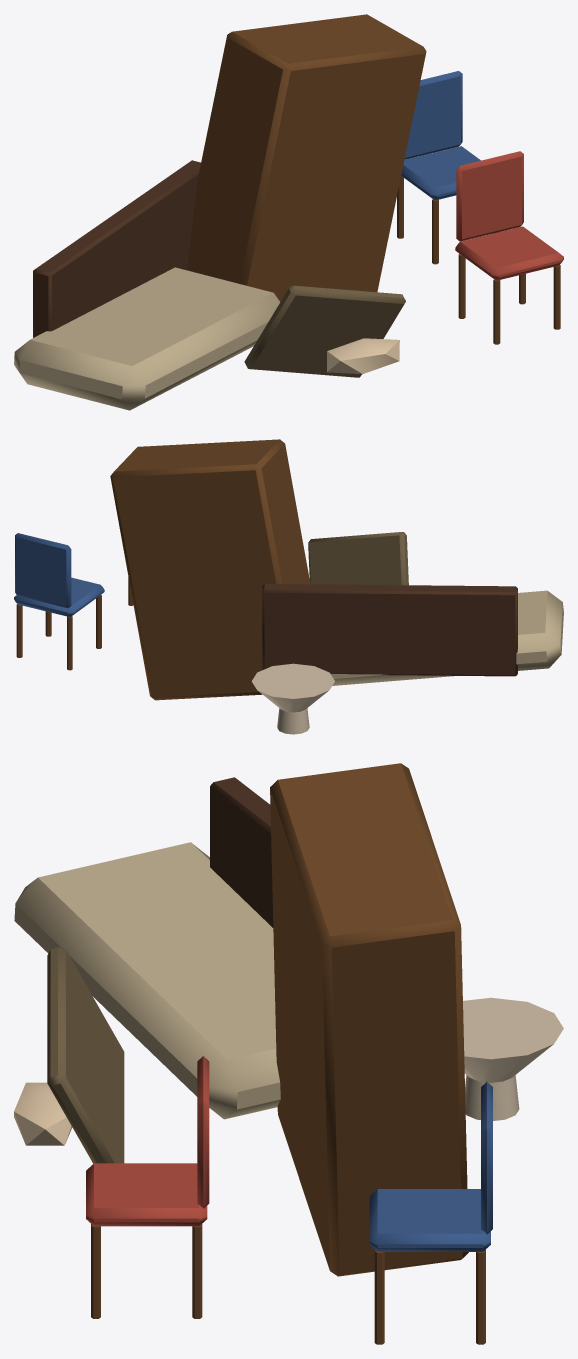
File: eviction_pile.glb
The picture shows the model from 3 angles, top to bottom: view 1: azimuth 30°, elevation 25°; view 2: azimuth 150°, elevation 25°; view 3: azimuth 270°, elevation 25°; orthographic projection. The views are drawn at different scales.
Parts seen in each view (by area): view 1: eviction_pile; view 2: eviction_pile; view 3: eviction_pile.
Part boxes in pixels (x1=…): eviction_pile: x1=14, y1=14, x2=563, y2=410; eviction_pile: x1=14, y1=439, x2=563, y2=734; eviction_pile: x1=14, y1=763, x2=563, y2=1344.
Bounding box in the file's own units: 4.57 × 2.35 × 2.71.
